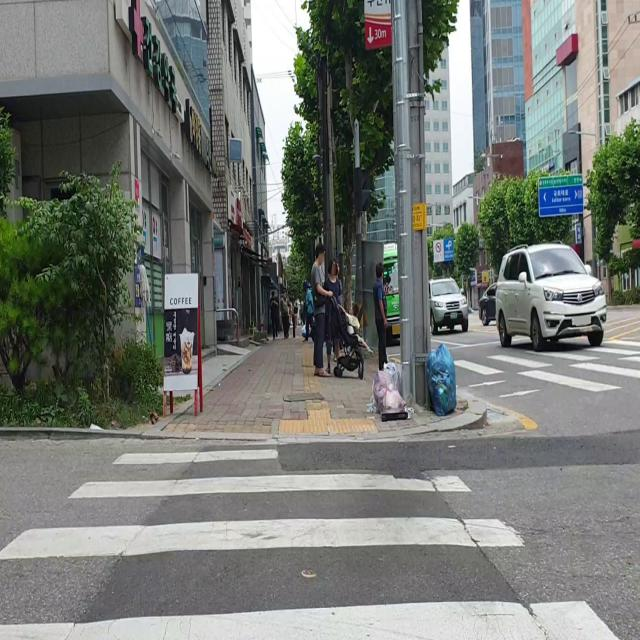횡단보도: (0, 442, 624, 640), (455, 344, 640, 397)
